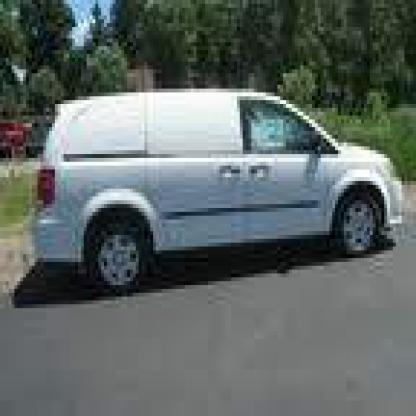car: (32, 89, 407, 308)
